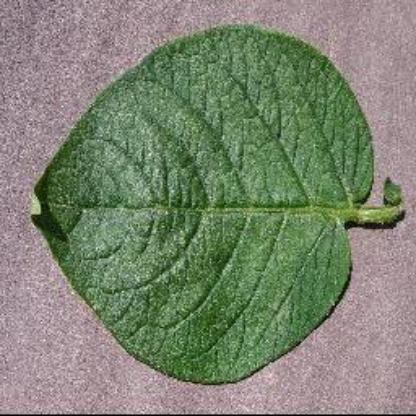Healthy-plant: (26, 23, 406, 390)
